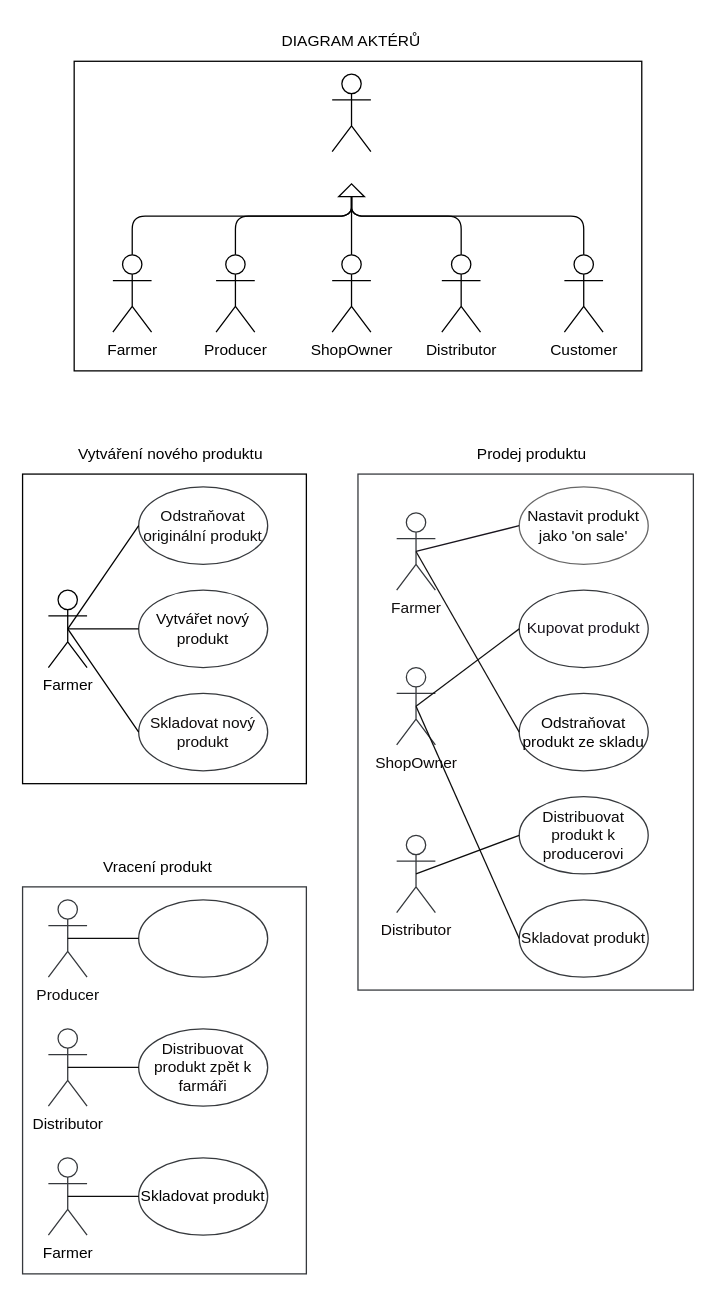
Some shapes in this 716 by 1296 pixel diagram are drawn without their labels. Each missing label, with the centre of its shape:
Actor: [351,112]
Odstraňovat produkt ke vrácení: [202,937]
